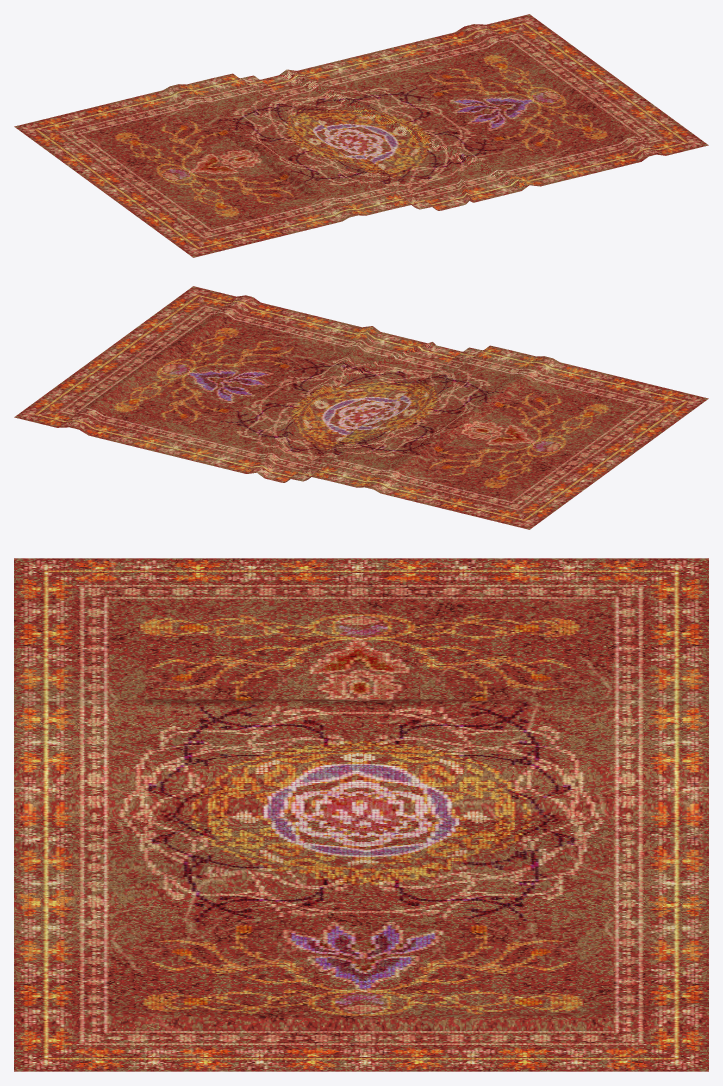
The model's file is ACT2_Carpet_Big_fin.fbx.
3 views of the same model, one above another, from view 1: azimuth 30°, elevation 25°; view 2: azimuth 150°, elevation 25°; view 3: azimuth 270°, elevation 25° (orthographic). The views are drawn at different scales.
Visible parts, largest first — view 1: Carpet_big; view 2: Carpet_big; view 3: Carpet_big.
Boxes of the visible parts, bbox=[...] form: Carpet_big: bbox=[14, 14, 708, 257]; Carpet_big: bbox=[14, 286, 708, 529]; Carpet_big: bbox=[14, 558, 708, 1071].
Bounding box in the file's own units: 450 × 13 × 271.
